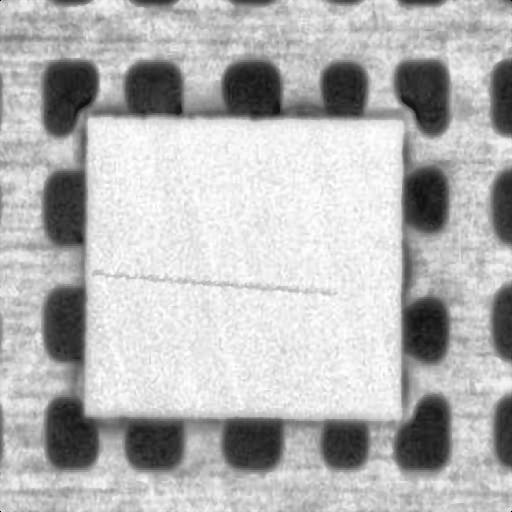DIE_CRACK: (122, 204, 445, 220)
